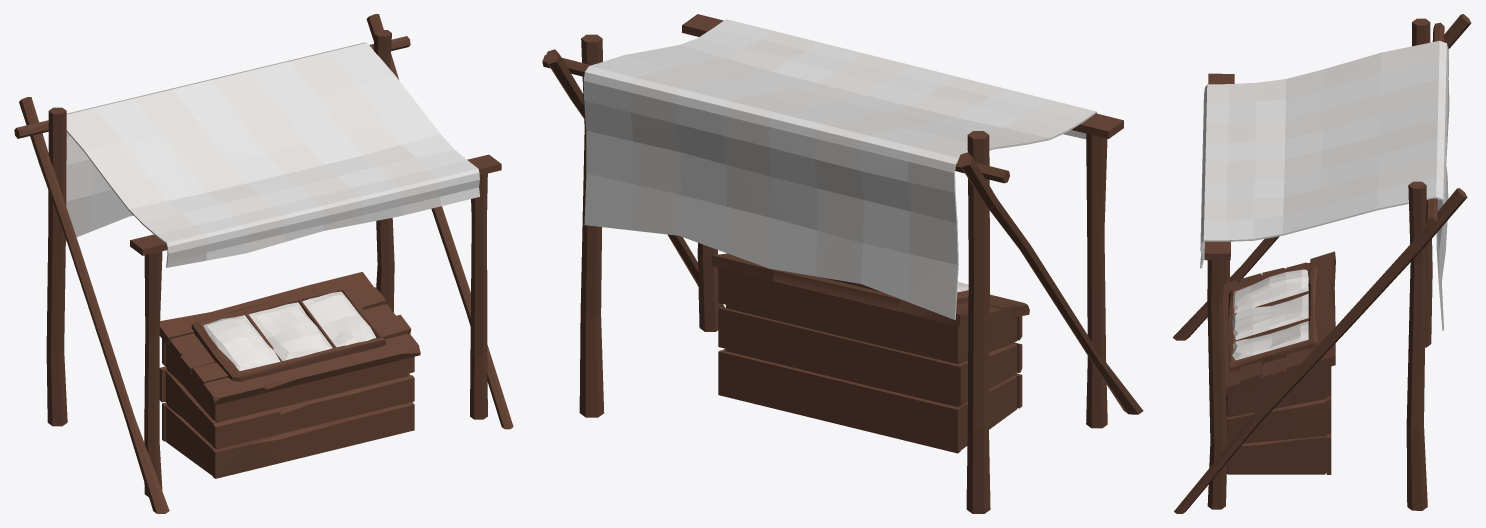
File: Stall_3.fbx
3 views of the same model, side by side, from view 1: azimuth 30°, elevation 25°; view 2: azimuth 150°, elevation 25°; view 3: azimuth 270°, elevation 25° (orthographic). The views are drawn at different scales.
Parts seen in each view (by area): view 1: Stall_3; view 2: Stall_3; view 3: Stall_3.
Boxes of the visible parts, bbox=[...] form: Stall_3: bbox=[14, 14, 513, 513]; Stall_3: bbox=[542, 14, 1143, 513]; Stall_3: bbox=[1173, 14, 1471, 513].
Bounding box in the file's own units: 3.9 × 3.02 × 2.53.
